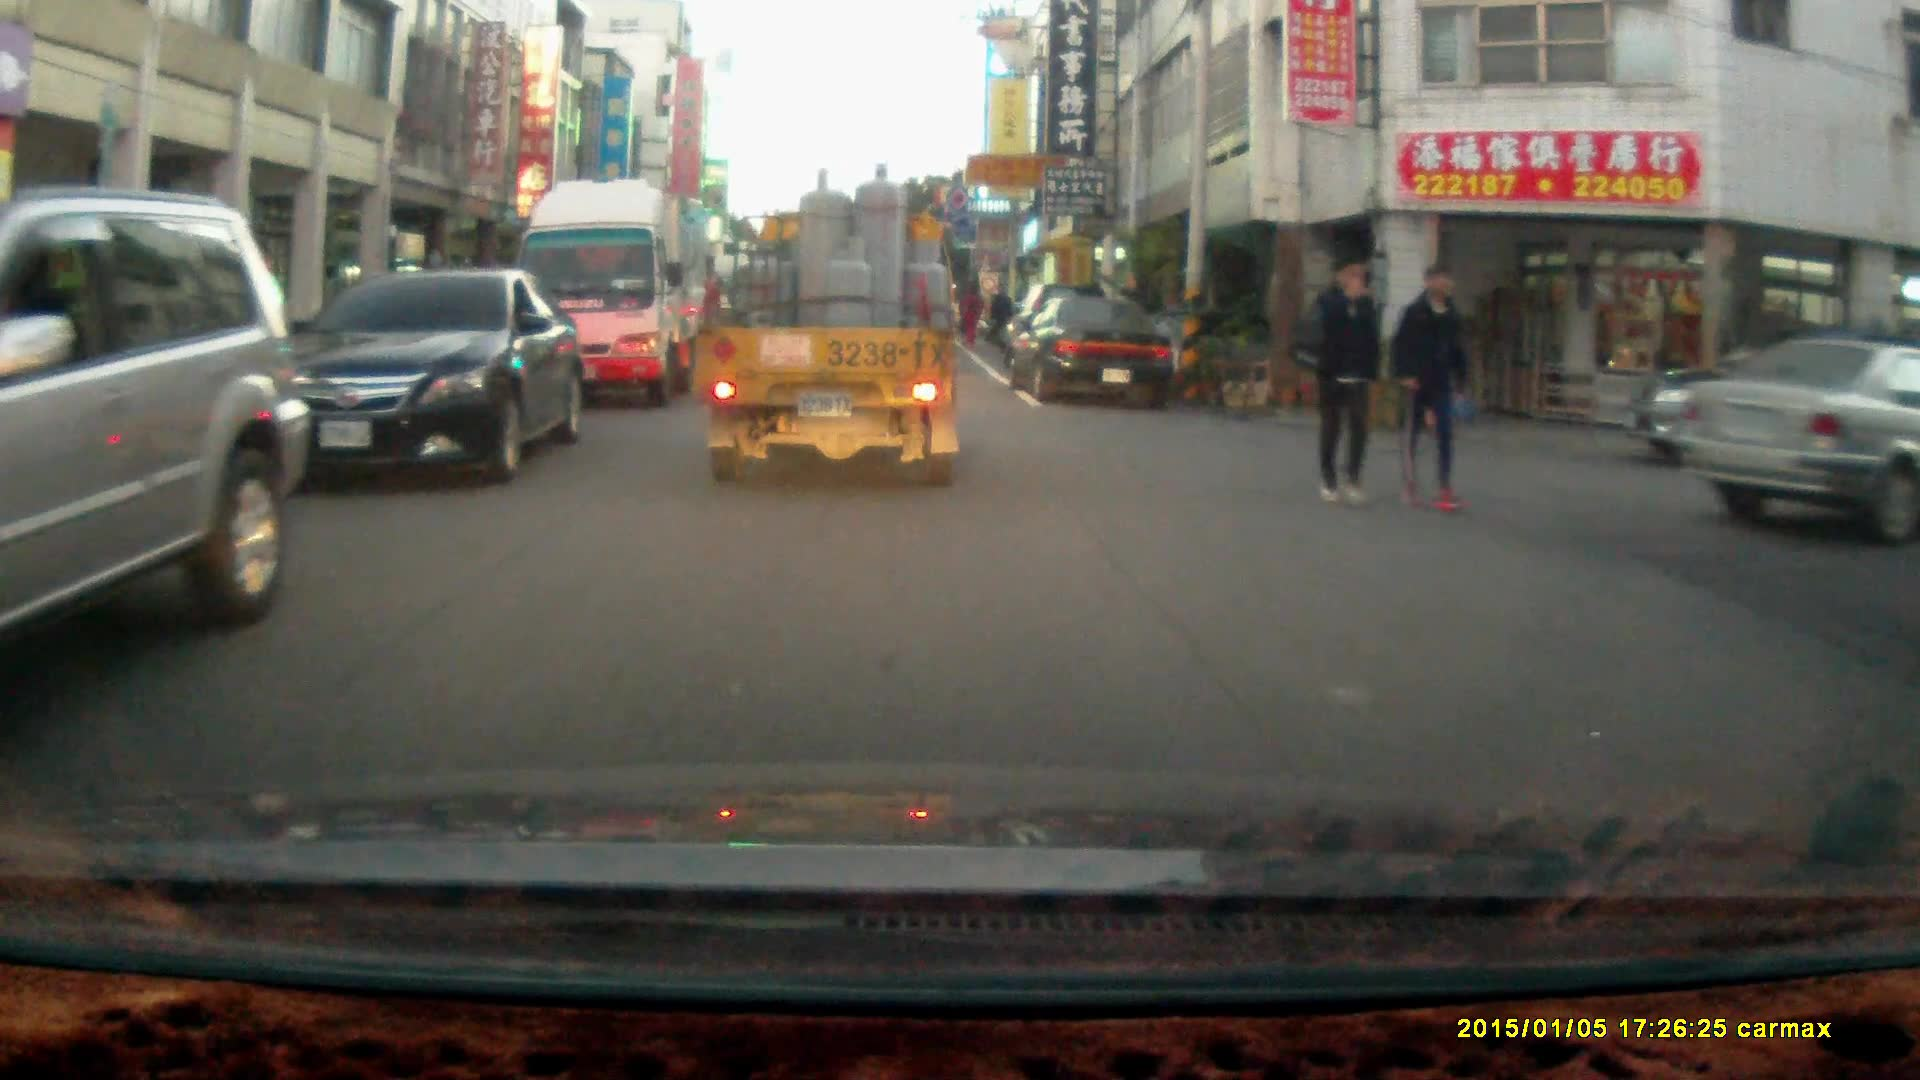pedestrian: (1388, 261, 1475, 517), (1311, 255, 1385, 511), (985, 278, 1014, 350), (957, 280, 982, 352)
vehicle: (1, 186, 317, 715), (699, 165, 968, 495), (232, 268, 592, 486), (1680, 341, 1920, 539), (510, 174, 710, 412), (1003, 296, 1178, 407)
